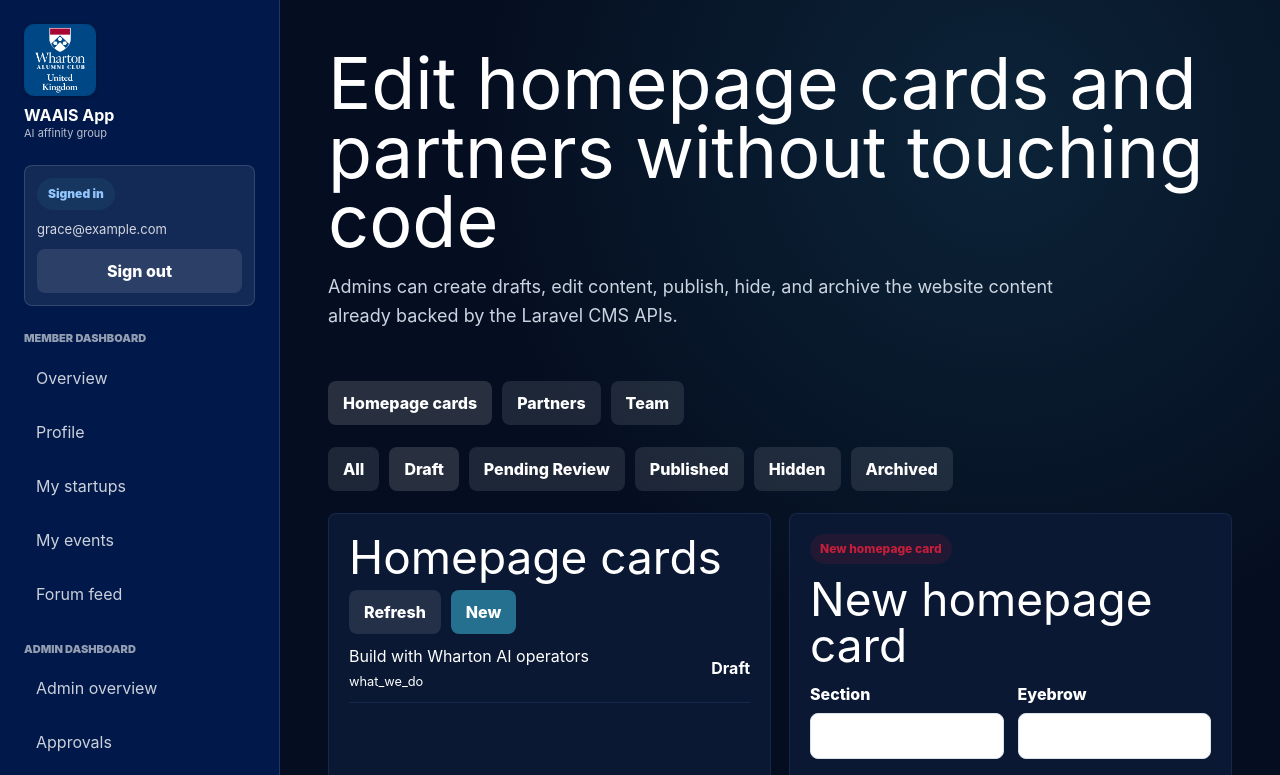
it: member dashboard live state › publishes selected public content and removes it from the draft queue
This screenshot has width=1280, height=775.
Click the button with class "table-button". click: (550, 668)
box: [349,634,750,703]
(page scrolled)
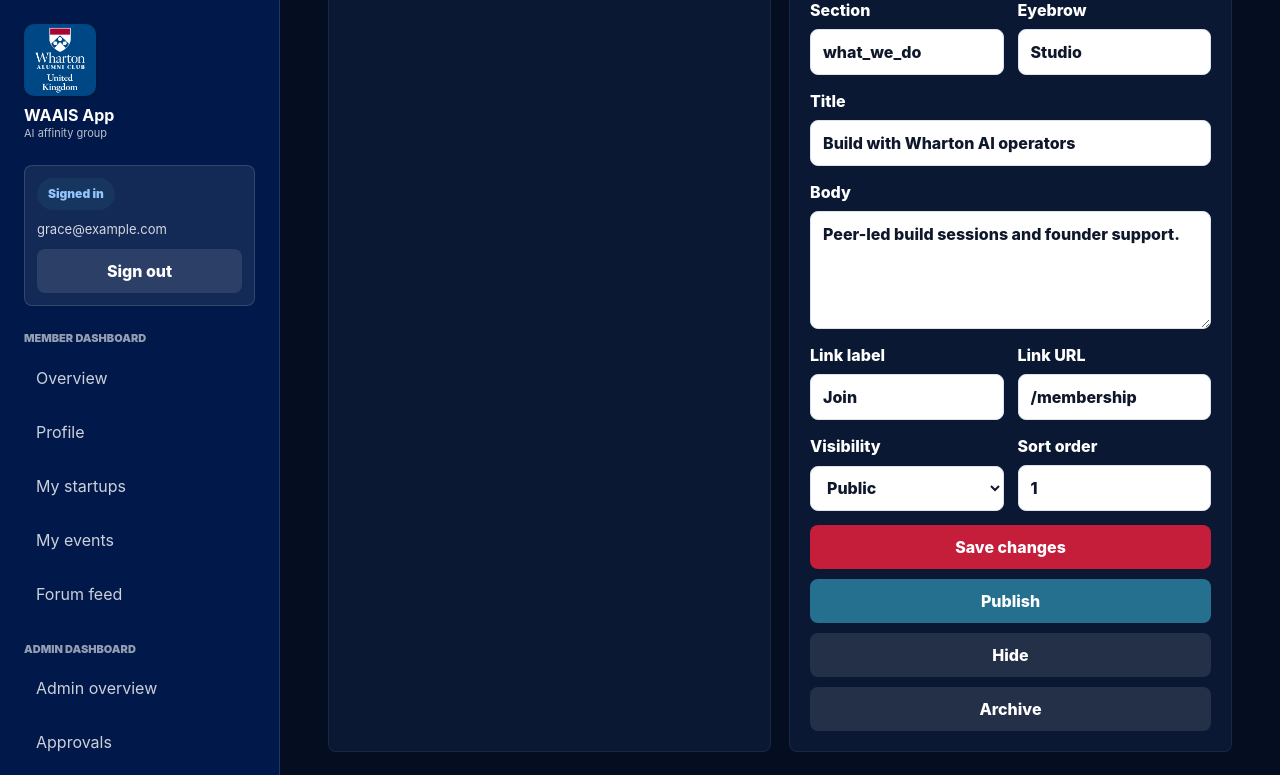
Now the button "Publish" is shown
Click the button "Publish". click: (1010, 601)
box: [810,579,1211,623]
(page scrolled)
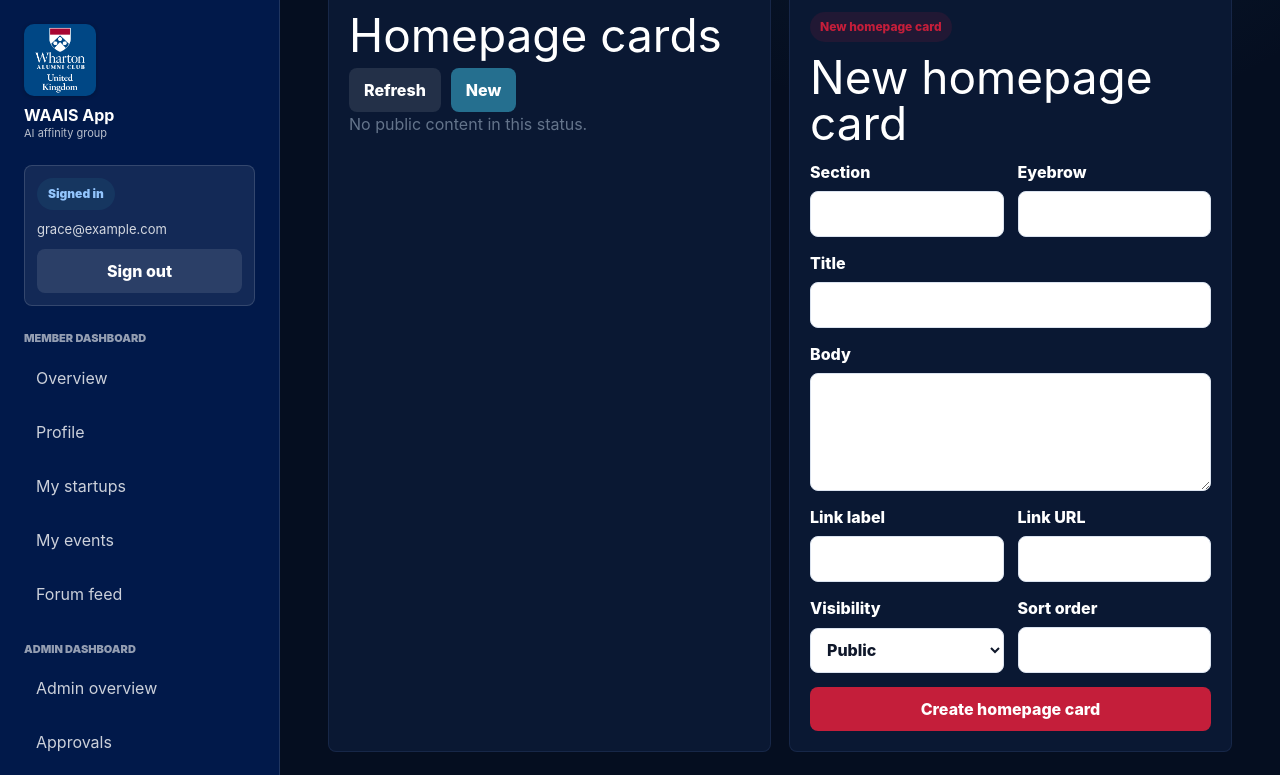
Now the text "No public content in this status." is shown, box [349,114,587,134]
